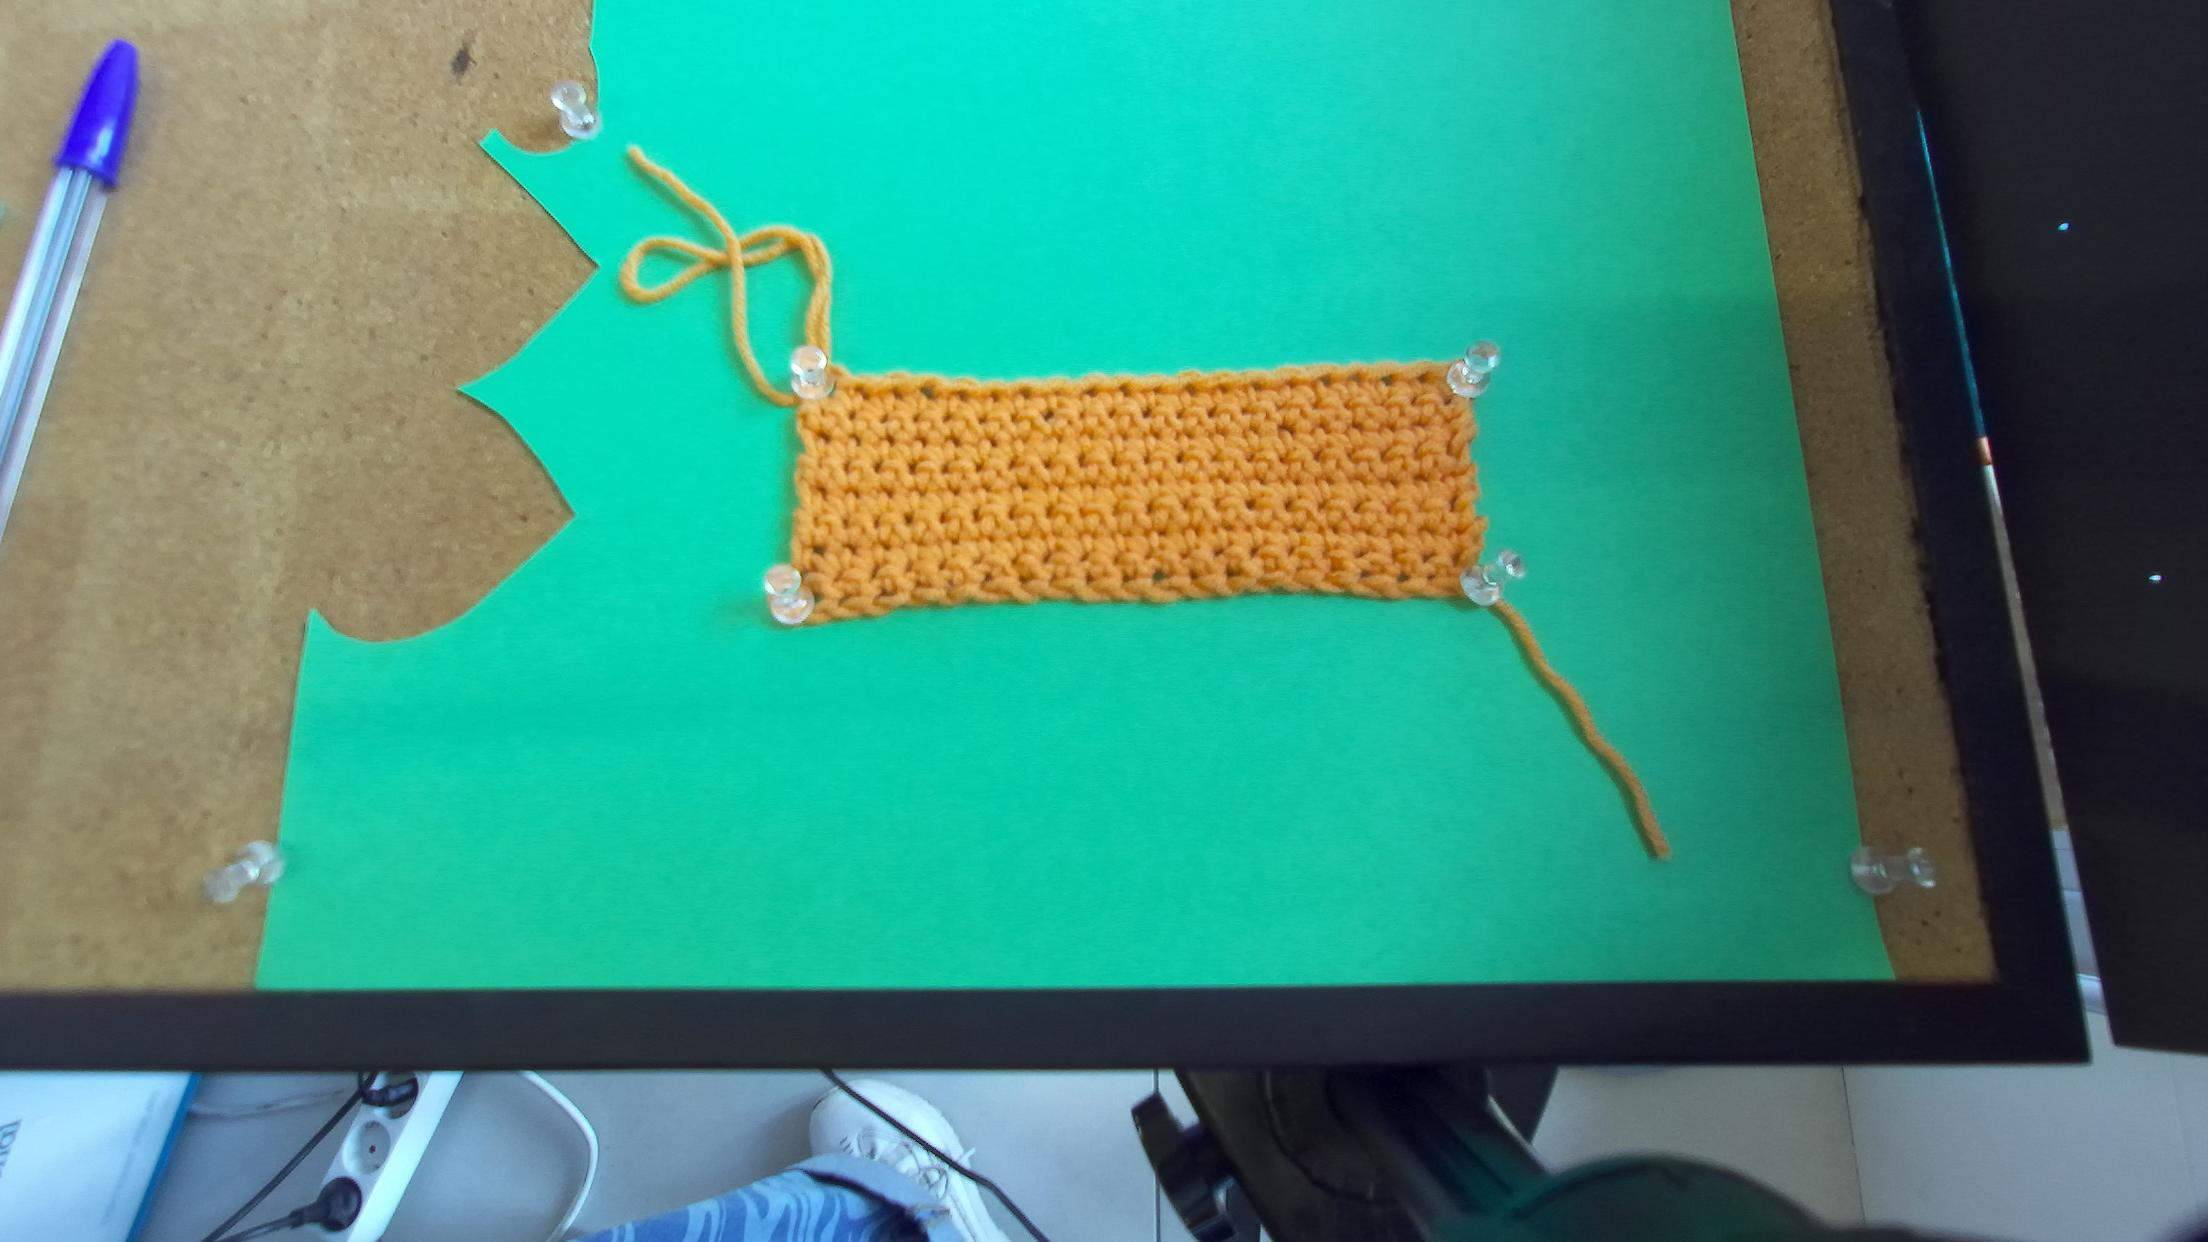hole: (854, 385, 870, 400), (887, 385, 904, 400), (955, 388, 971, 405), (921, 387, 936, 400), (1118, 384, 1131, 397), (1184, 384, 1198, 397), (1216, 381, 1230, 394), (1084, 385, 1099, 397), (1283, 378, 1297, 390), (1319, 373, 1331, 387), (1380, 375, 1394, 387), (1415, 372, 1429, 384), (1348, 372, 1360, 384), (1019, 388, 1033, 399), (989, 390, 999, 402), (1250, 381, 1260, 391), (1151, 385, 1163, 394), (1052, 390, 1063, 397)
swatch: (764, 350, 1504, 632)
